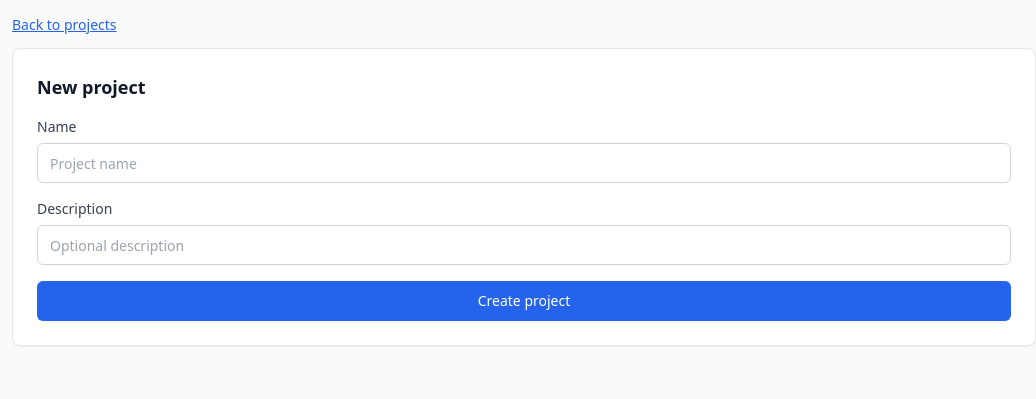
Project create/edit validation + delete confirmation (behavior) › create shows client validation error for empty name (behavior)
The image size is (1036, 399).
Click the button "Create project". click: [524, 301]
box: x1=37 y1=281 x2=1011 y2=321
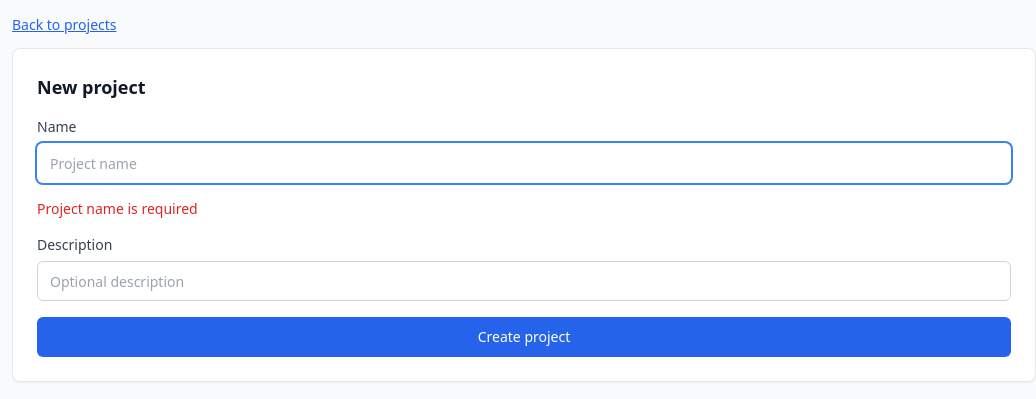
Now the text "Project name is required" is shown, box x1=37 y1=199 x2=198 y2=218
